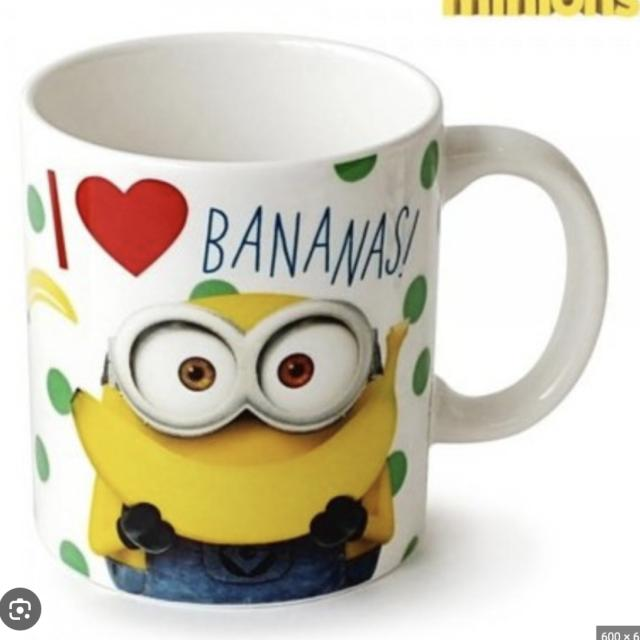recyclable: (15, 26, 606, 612)
